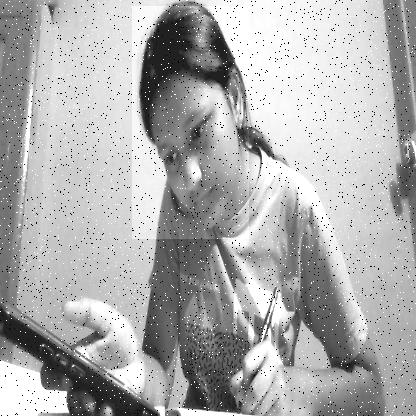Distracted: (132, 6, 249, 239)
